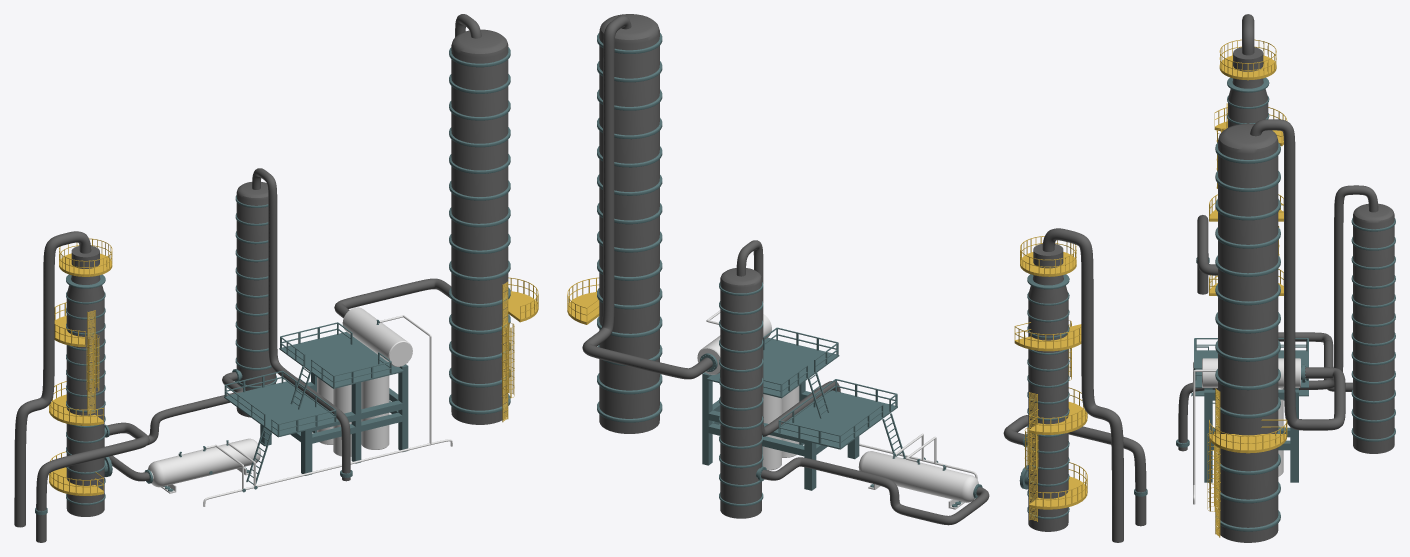
The model's file is Distillation Column.fbx.
The picture shows the model from 3 angles, left to right: view 1: azimuth 30°, elevation 25°; view 2: azimuth 150°, elevation 25°; view 3: azimuth 270°, elevation 25°; orthographic projection. The views are drawn at different scales.
Visible parts, largest first — view 1: Cylinder.012, Cylinder, Cylinder.014, Cylinder.013, Plane.002, NurbsPath, Plane, Cube, NurbsPath.003, Sphere, Cylinder.003, NurbsPath.001 (+13 smaller); view 2: Cylinder.012, Cylinder.014, Cylinder, NurbsPath.005, NurbsPath, Plane, Cylinder.013, Cylinder.003, Plane.002, Sphere, Cube, NurbsPath.004 (+9 smaller); view 3: Cylinder.012, Cylinder.014, NurbsPath.005, Cylinder.013, NurbsPath.003, Cylinder, Cylinder.015, Cube, Cylinder.017, Cylinder.002, NurbsPath.001, Plane.002 (+9 smaller).
Part boxes in pixels (x1,y1,x2,y2): Cylinder.012: (451, 29, 508, 424); Cylinder: (66, 245, 104, 516); Cylinder.014: (236, 182, 275, 417); Cylinder.013: (449, 47, 510, 414); Plane.002: (279, 322, 403, 388); NurbsPath: (14, 231, 91, 527); Plane: (224, 370, 348, 437); Cube: (260, 364, 408, 475); NurbsPath.003: (252, 168, 350, 481); Sphere: (148, 438, 260, 493); Cylinder.003: (49, 302, 103, 495); NurbsPath.001: (36, 422, 149, 542); Cylinder.012: (599, 14, 659, 433); Cylinder.014: (720, 268, 761, 518); Cylinder: (1028, 243, 1068, 531); NurbsPath.005: (582, 15, 712, 379); NurbsPath: (1042, 228, 1123, 542); Plane: (772, 379, 897, 449); Cylinder.013: (597, 33, 662, 422); Cylinder.003: (1014, 322, 1087, 509); Plane.002: (707, 327, 839, 398); Sphere: (858, 451, 978, 509); Cube: (702, 372, 859, 490); NurbsPath.004: (761, 457, 989, 525); Cylinder.012: (1218, 123, 1278, 542); Cylinder.014: (1353, 203, 1394, 453); NurbsPath.005: (1250, 119, 1345, 430); Cylinder.013: (1215, 142, 1280, 531); NurbsPath.003: (1178, 185, 1378, 451); Cylinder: (1228, 47, 1268, 127); Cylinder.015: (1351, 218, 1395, 441); Cube: (1204, 388, 1298, 482); Cylinder.017: (1209, 419, 1287, 453); Cylinder.002: (1219, 39, 1276, 80); NurbsPath.001: (1197, 215, 1217, 294); Plane.002: (1194, 338, 1308, 387).
Size of the model in its own units: 12641 by 9102 by 4374.
